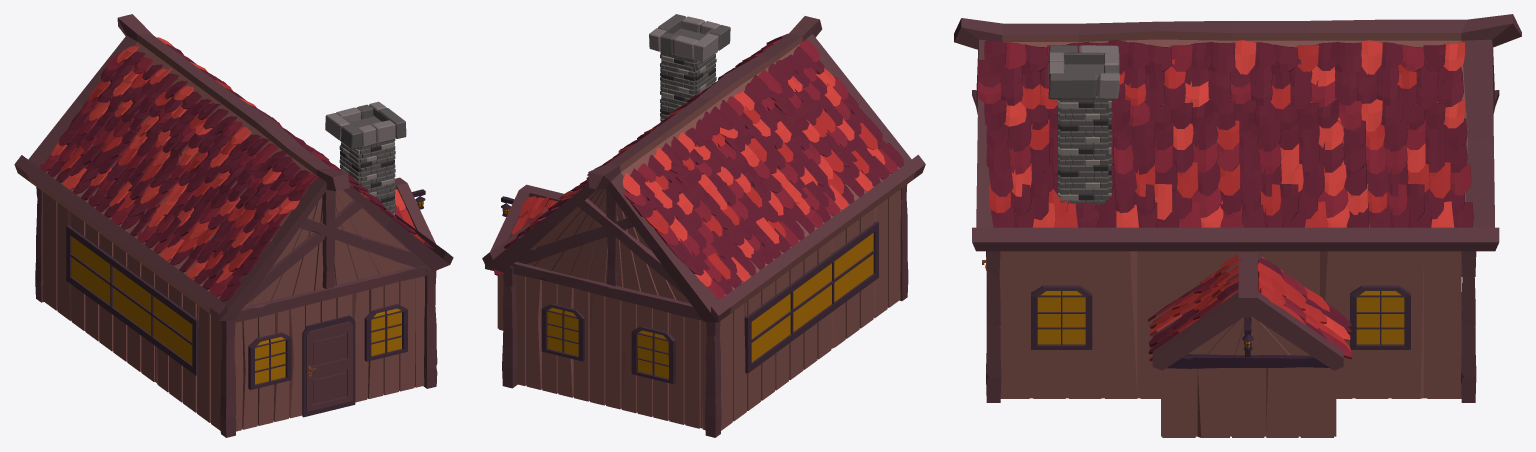
The model's file is casa-madeira5.fbx.
3 renders of one model, left to right at view 1: azimuth 30°, elevation 25°; view 2: azimuth 150°, elevation 25°; view 3: azimuth 270°, elevation 25°, orthographic. The views are drawn at different scales.
Visible parts, largest first — view 1: Cube.169, Cube.031; view 2: Cube.169; view 3: Cube.169.
Boxes of the visible parts, x1,y1,x2,y2 form: Cube.169: (14, 14, 453, 437); Cube.031: (306, 321, 352, 411); Cube.169: (482, 14, 925, 437); Cube.169: (954, 14, 1521, 437).
Bounding box in the file's own units: 795 × 605 × 972.
